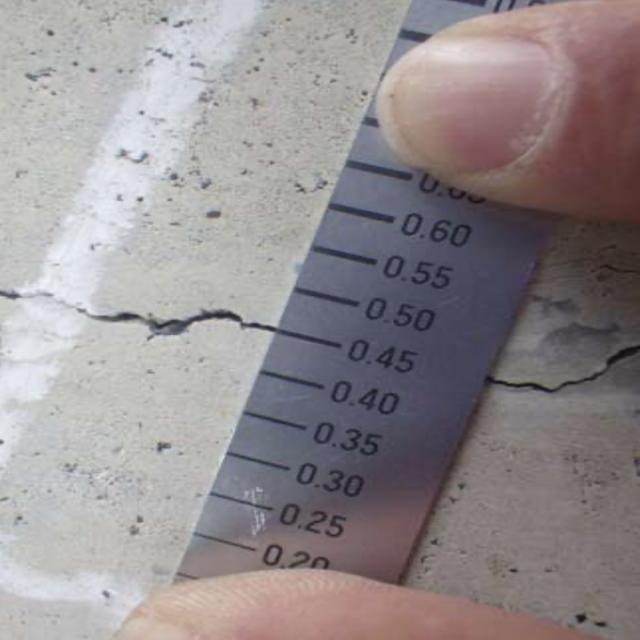crack: (4, 269, 269, 347), (488, 314, 640, 419)
